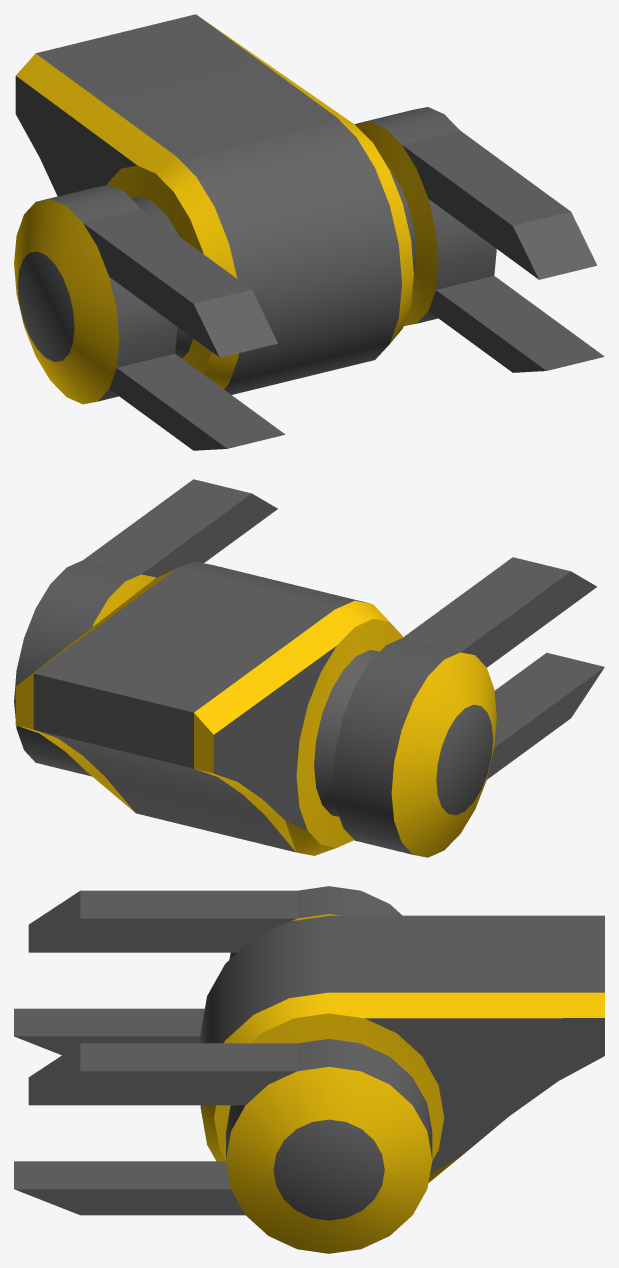
The model's file is OrangeDrone.fbx.
The picture shows the model from 3 angles, top to bottom: view 1: azimuth 30°, elevation 25°; view 2: azimuth 150°, elevation 25°; view 3: azimuth 270°, elevation 25°; orthographic projection. The views are drawn at different scales.
Visible parts, largest first — view 1: pCylinder8; view 2: pCylinder8; view 3: pCylinder8.
Part boxes in pixels (x1,y1,x2,y2): pCylinder8: [14, 14, 604, 450]; pCylinder8: [14, 479, 604, 857]; pCylinder8: [14, 886, 604, 1253].
Size of the model in its own units: 1.38 by 0.7476 by 1.72.
